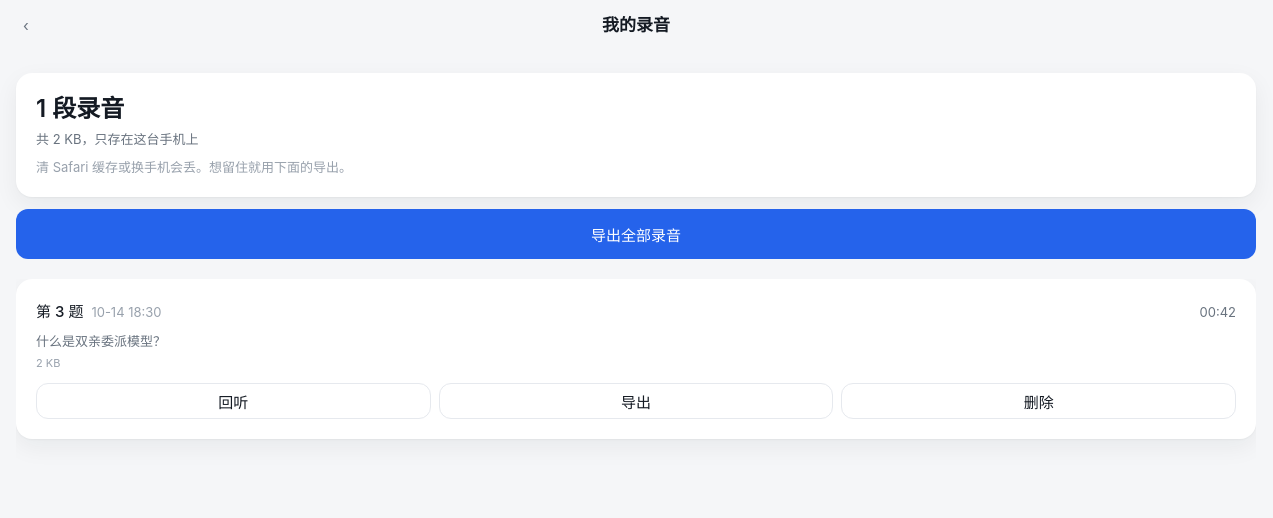
Test: Clips · 单条导出 › 导出真失败才提示
Expected: the text "1 段录音" is shown, 36,94 -> 124,123
Step 1. Click the button "导出" → [636, 401], box 439,383 -> 833,419
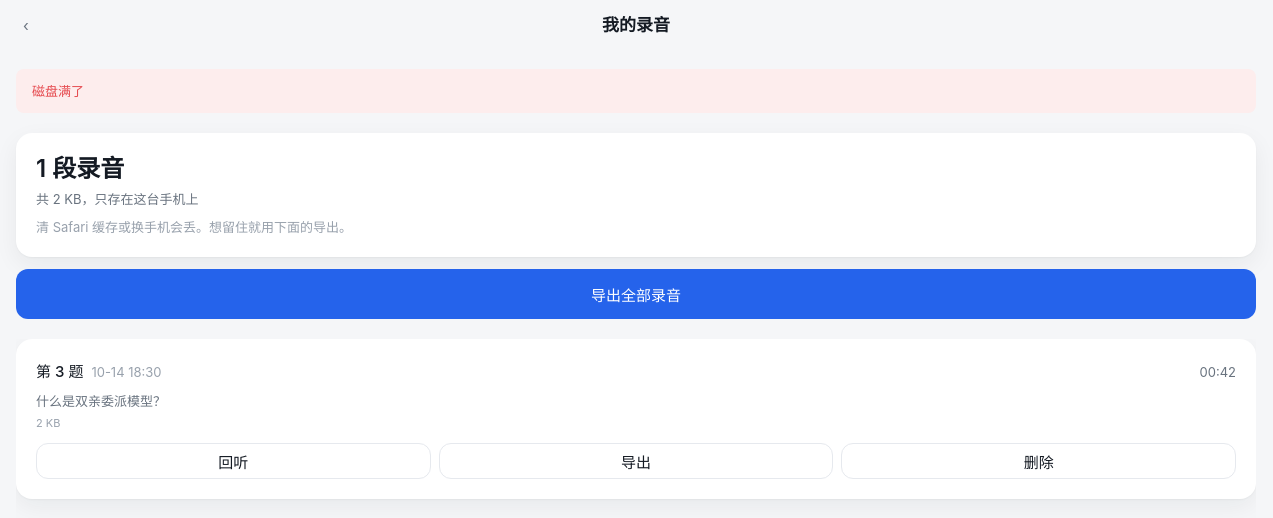
Expected: the message reads "磁盘满了", 32,83 -> 84,99
